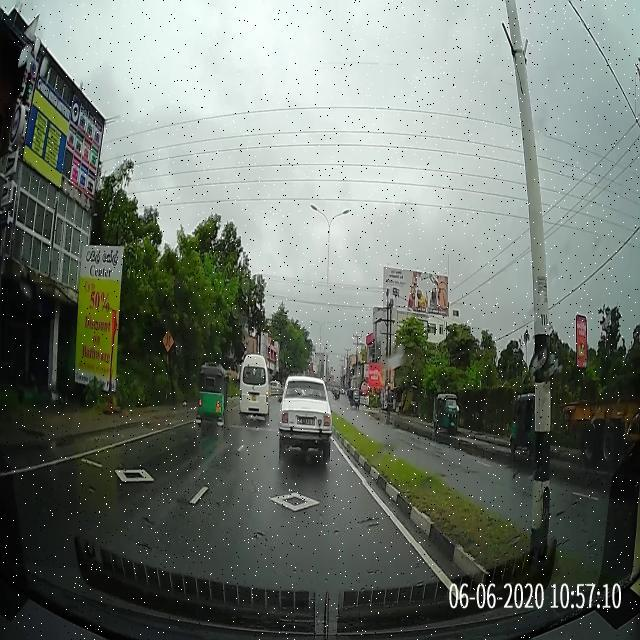diamond: (159, 482, 420, 543)
